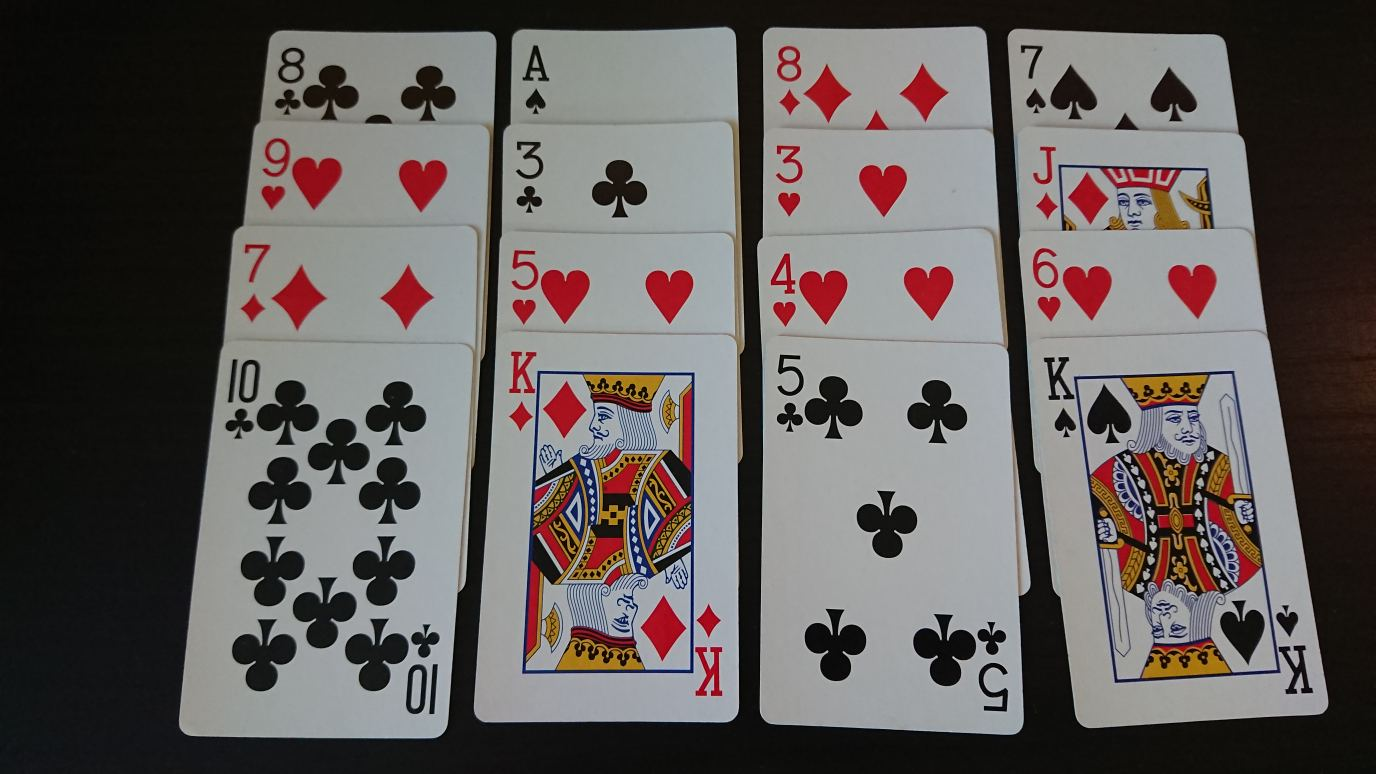10C: (222, 353, 263, 443)
3C: (510, 136, 548, 218)
3H: (769, 139, 810, 221)
4H: (765, 247, 801, 331)
5C: (770, 348, 808, 439)
5H: (506, 244, 541, 329)
6H: (1028, 242, 1067, 326)
7D: (237, 238, 275, 327)
7S: (1014, 38, 1052, 121)
8C: (271, 44, 308, 120)
8D: (770, 39, 805, 119)
9H: (257, 132, 294, 214)
AS: (519, 39, 554, 119)
JD: (1027, 139, 1066, 225)
KD: (505, 345, 542, 436)
KS: (1036, 349, 1084, 443)
